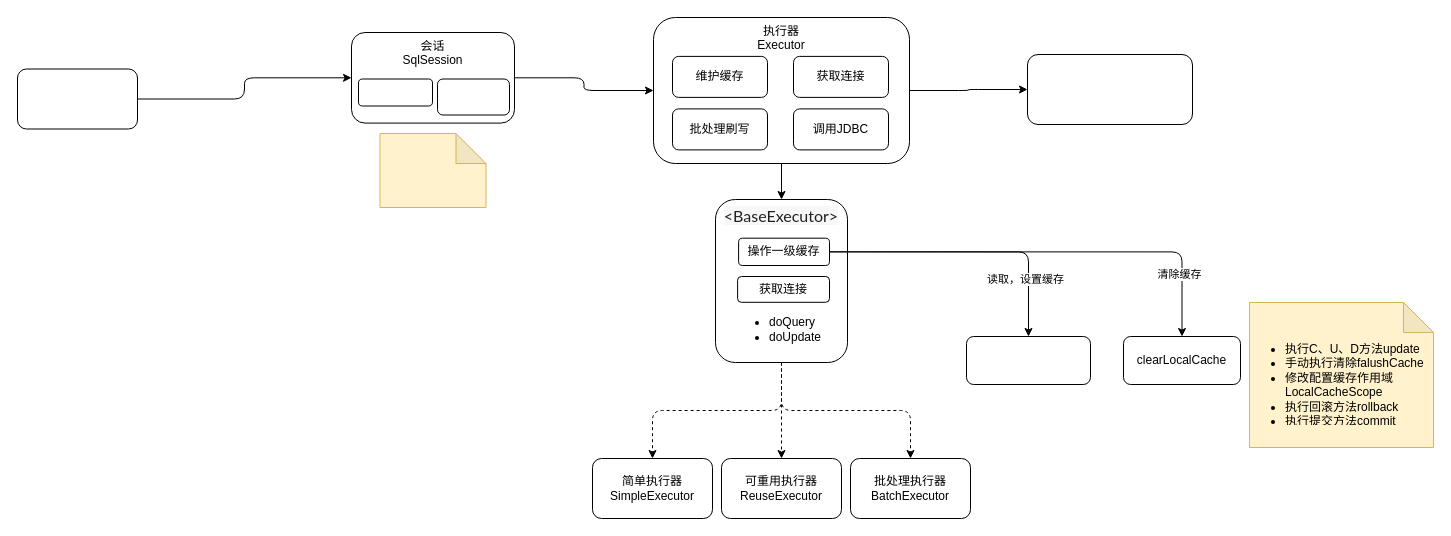
This 1451x536 diagram has some shape labels left out. Each missing label, with the box of its shape:
CRUD: (358, 78, 432, 106)
PerpeturalCache: (966, 336, 1090, 384)
StatementHandler JDBC处理器: (1026, 54, 1192, 124)
会话的提交，关闭: (436, 78, 510, 115)
方法代理 Mapper: (16, 68, 138, 129)
清除缓存的情况：: (1248, 302, 1434, 448)
门面模式。 提供基本的API: (379, 132, 486, 208)
